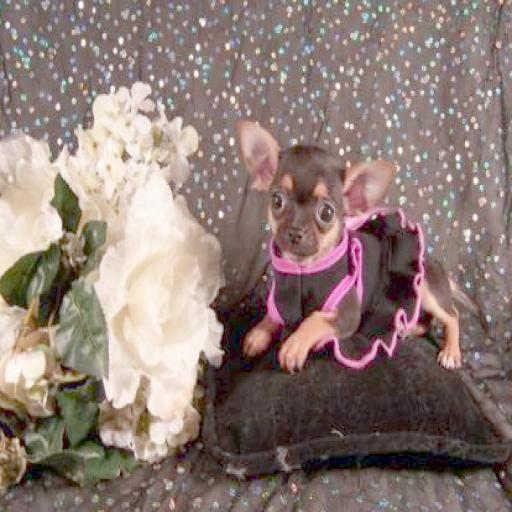dog_face: (236, 121, 374, 259)
